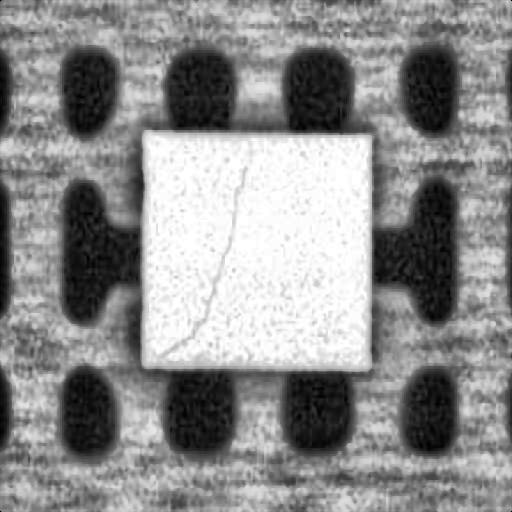DIE_CRACK: (152, 165, 246, 350)
